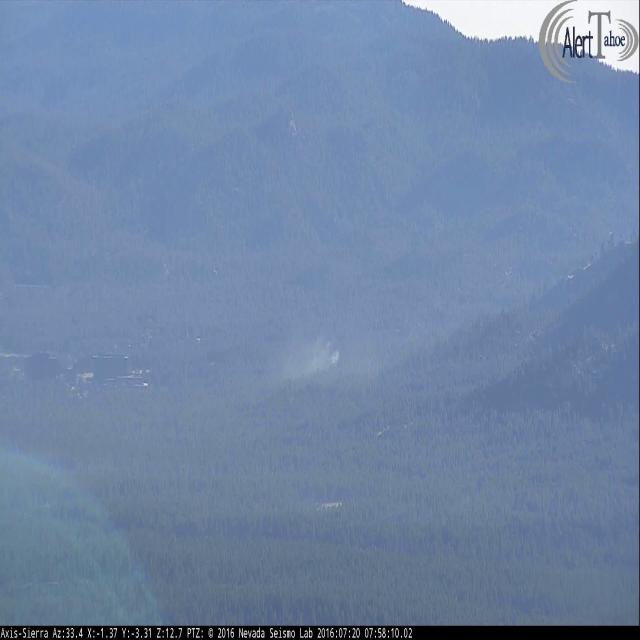smoke: (272, 320, 355, 401)
